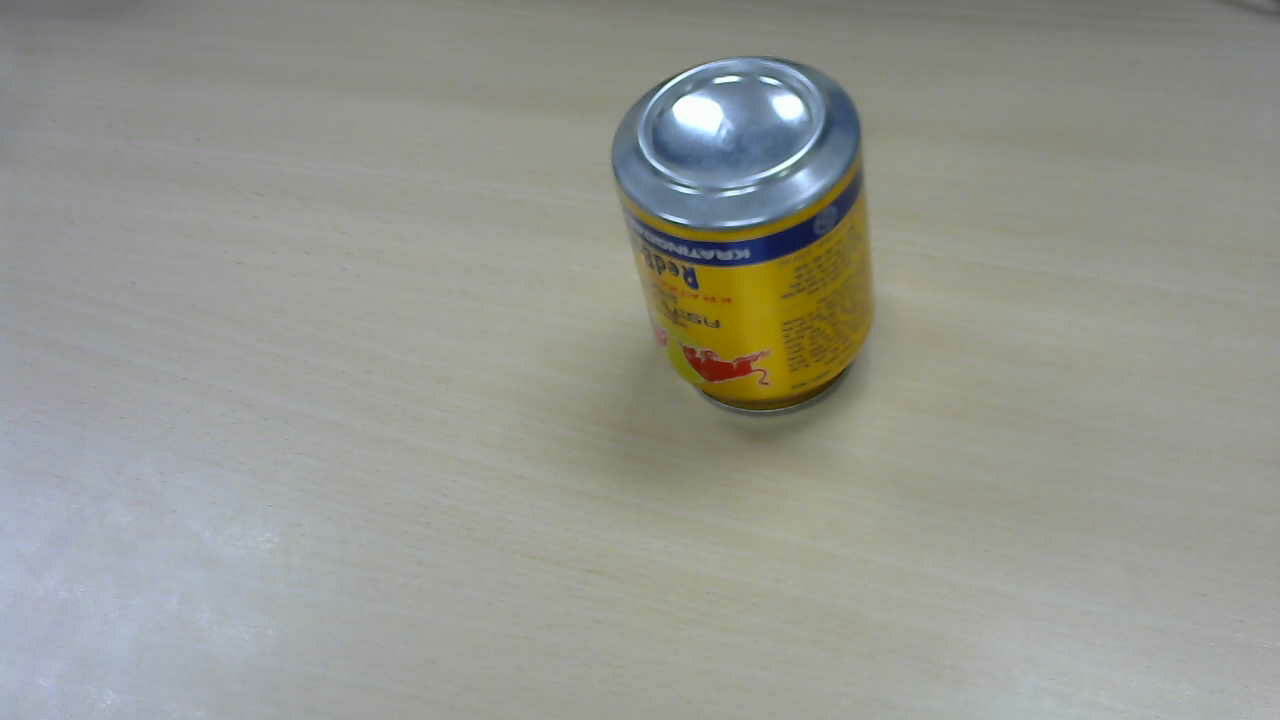Red_Bull: (614, 62, 888, 421)
